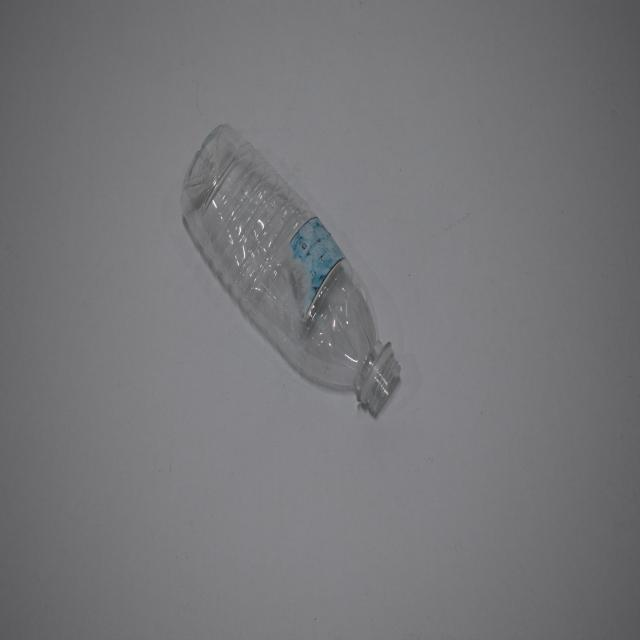bottle: (169, 98, 430, 462)
